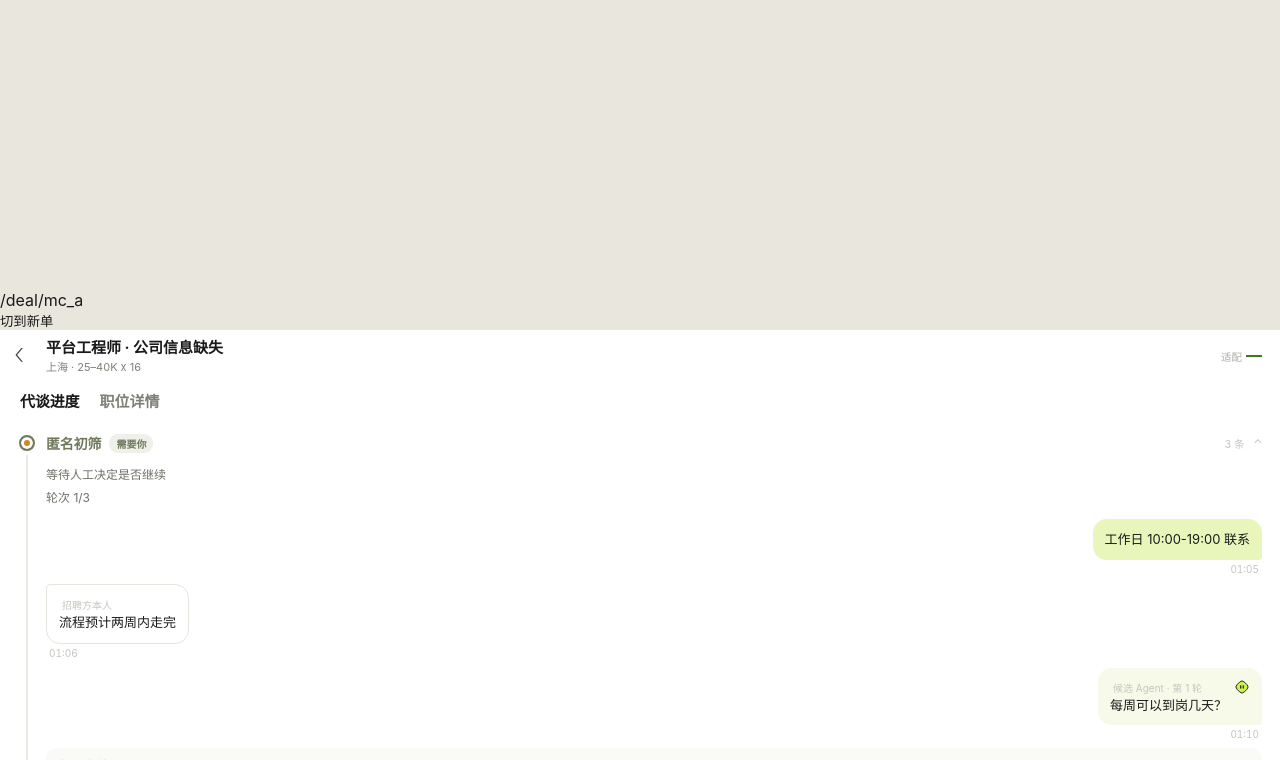
it: MatchCase详情 · 直达刷新与隐私（Backend） › 正常 Backend 详情用共用外壳：进度/资料两 Tab 在场，切 Tab 不改 URL，换单 Tab 回进度
(page scrolled)
Expected: the text "平台工程师 · 公司信息缺失" is shown, [46, 338, 223, 357]
Expected: the text "/deal/mc_a" is shown, [0, 290, 83, 310]
// 切到资料：槽位换成缺口说明（当前 P5 detail 不提供资料区字段），地址不变
Click the button "职位详情": (129, 400) [99, 390, 159, 411]
(page scrolled)
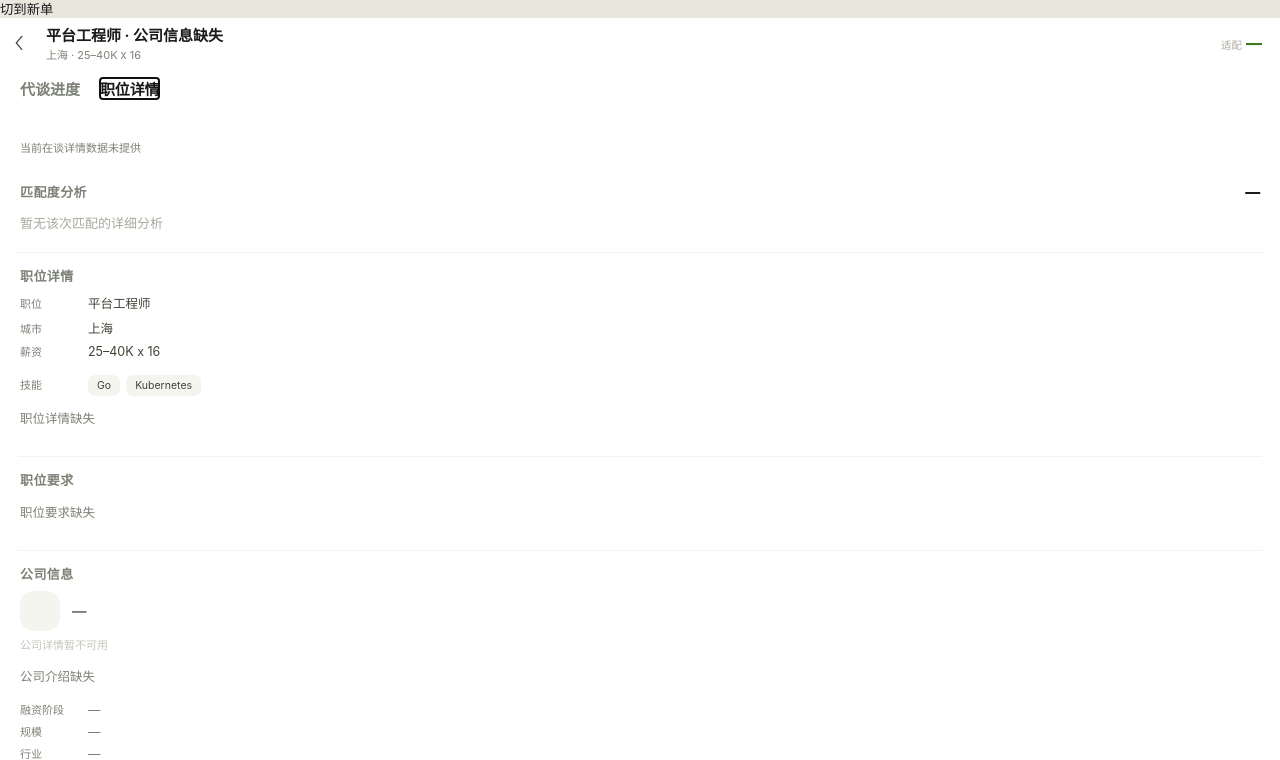
Expected: the text "当前在谈详情数据未提供" is shown, [20, 141, 141, 155]
Expected: the text "轮次 1/3" is gone
Click the button "切到新单": (27, 8) [0, 0, 53, 18]
(page scrolled)
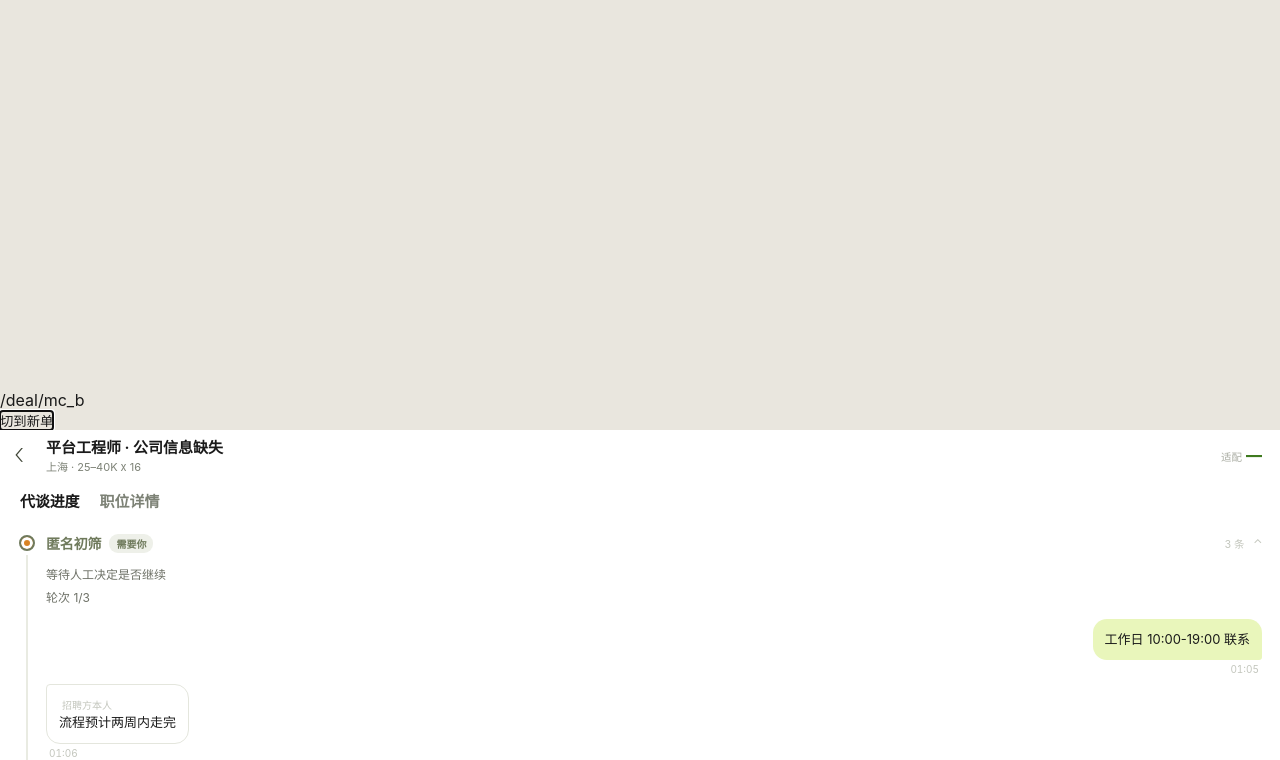
Expected: the text "轮次 1/3" is shown, [46, 590, 90, 605]
Expected: the text "/deal/mc_b" is shown, [0, 390, 84, 410]
